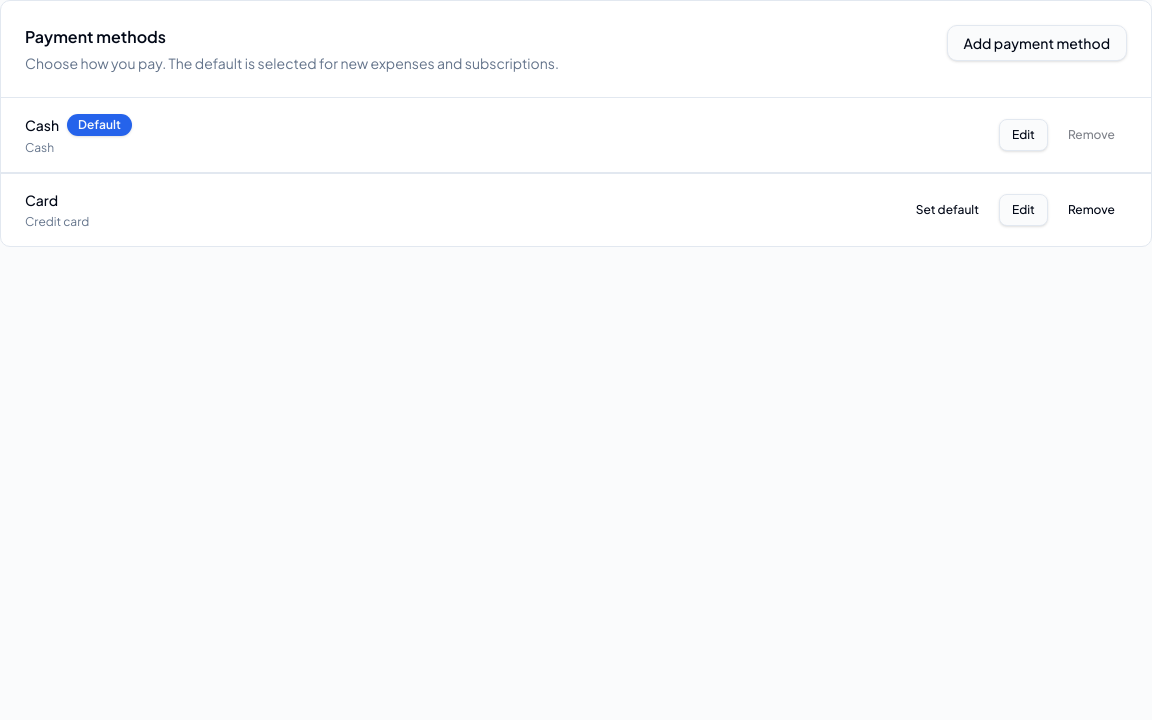
Test: payment method settings › validates names and keeps the form open on server errors
Expected: the button with aria-label "Edit Card" is shown, [999,194,1048,226]
Step 1. Click the button "Add payment method" → (1037,43), box [946,25,1127,61]
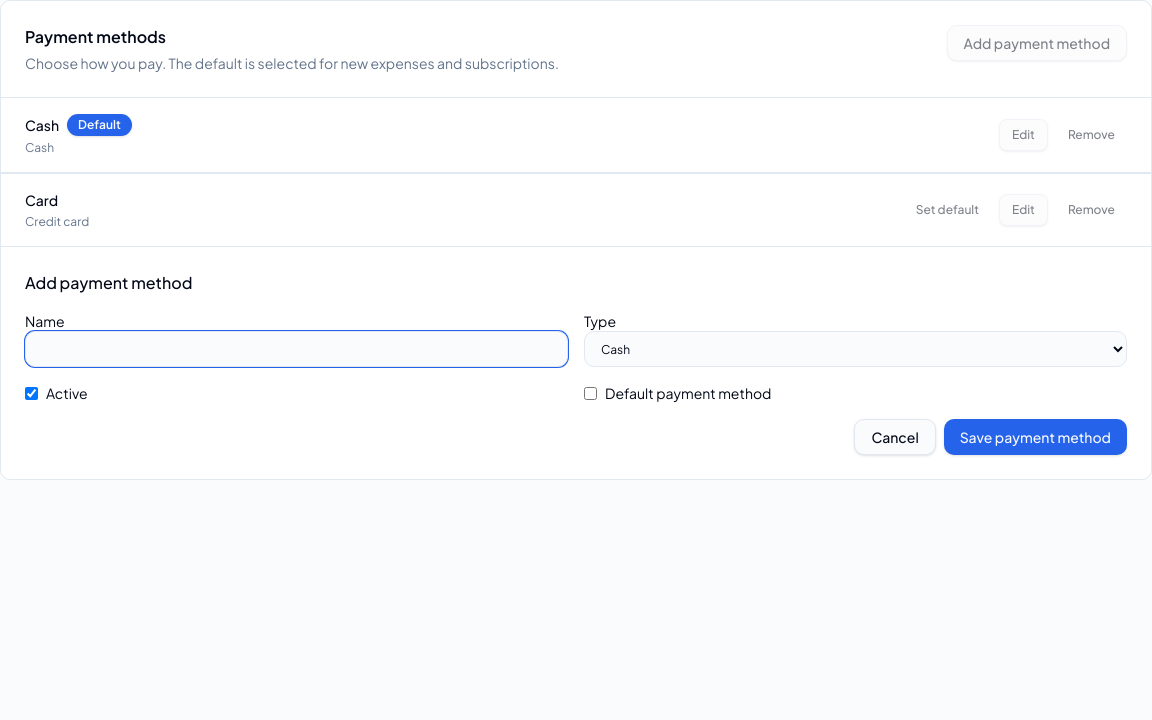
Step 2. Click the button "Save payment method" → (1035,437), box [944,419,1127,455]
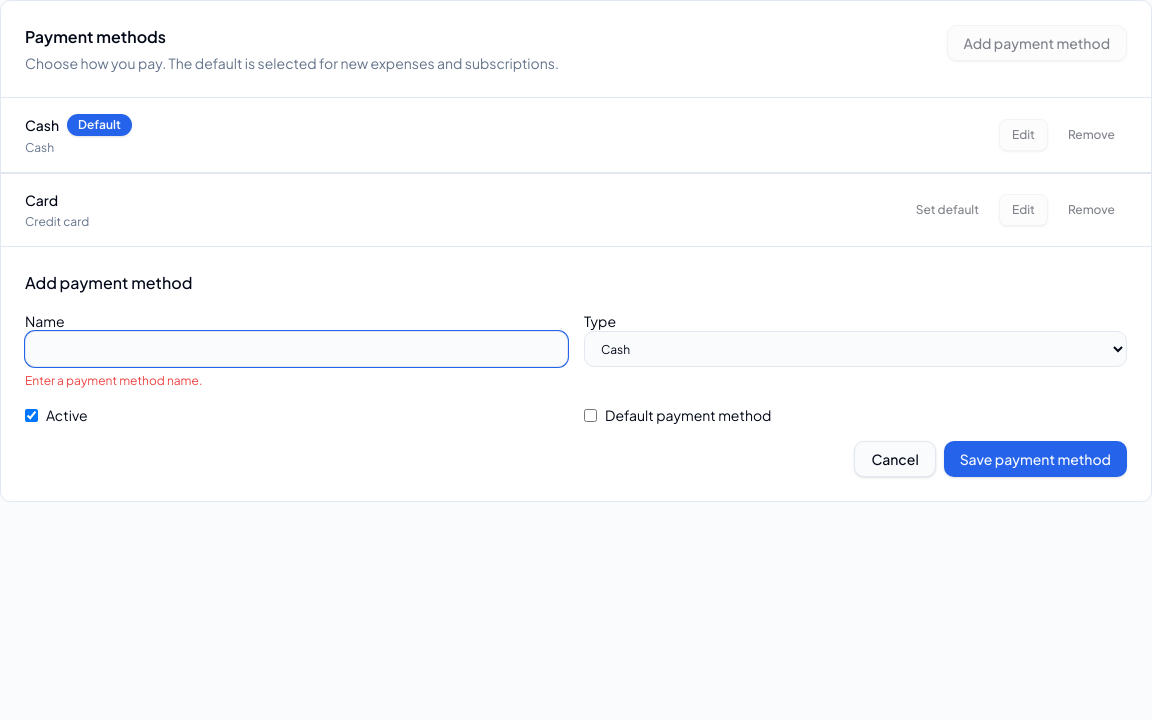
Expected: the message reads "Enter a payment method name.", [25,373,202,388]
Step 3. Type "Cash" into the field labelled "Name" → (296,349), box [25,331,568,367]
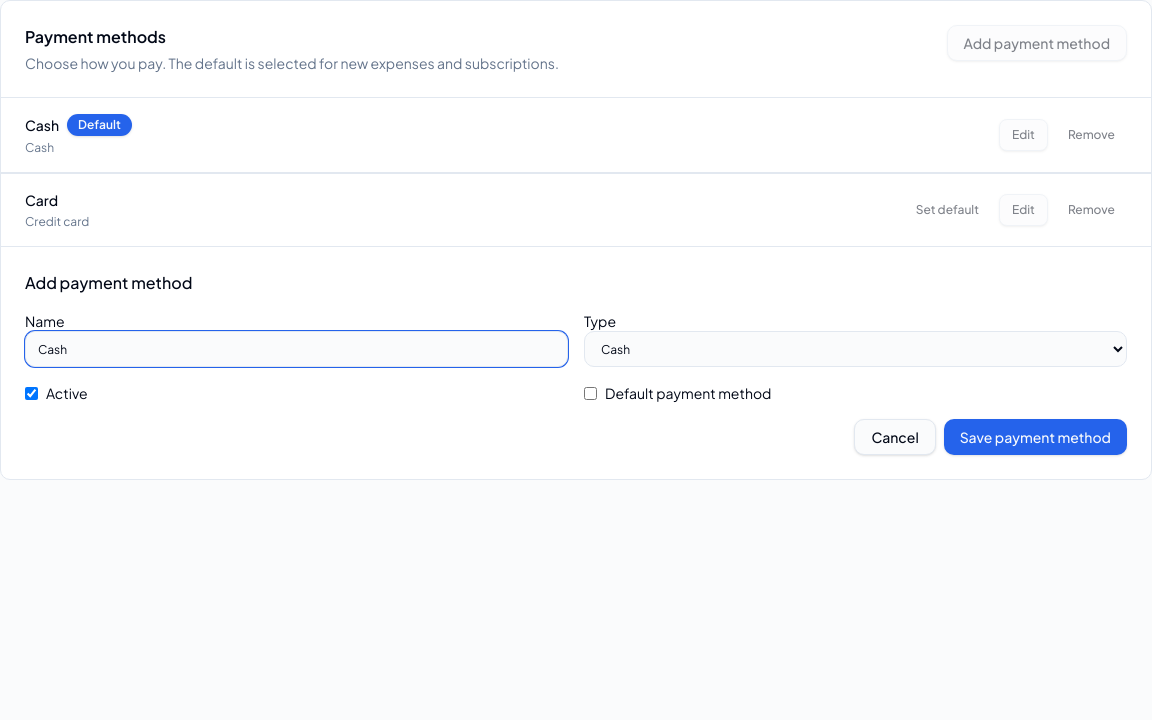
Step 4. Click the button "Save payment method" → (1035,437), box [944,419,1127,455]
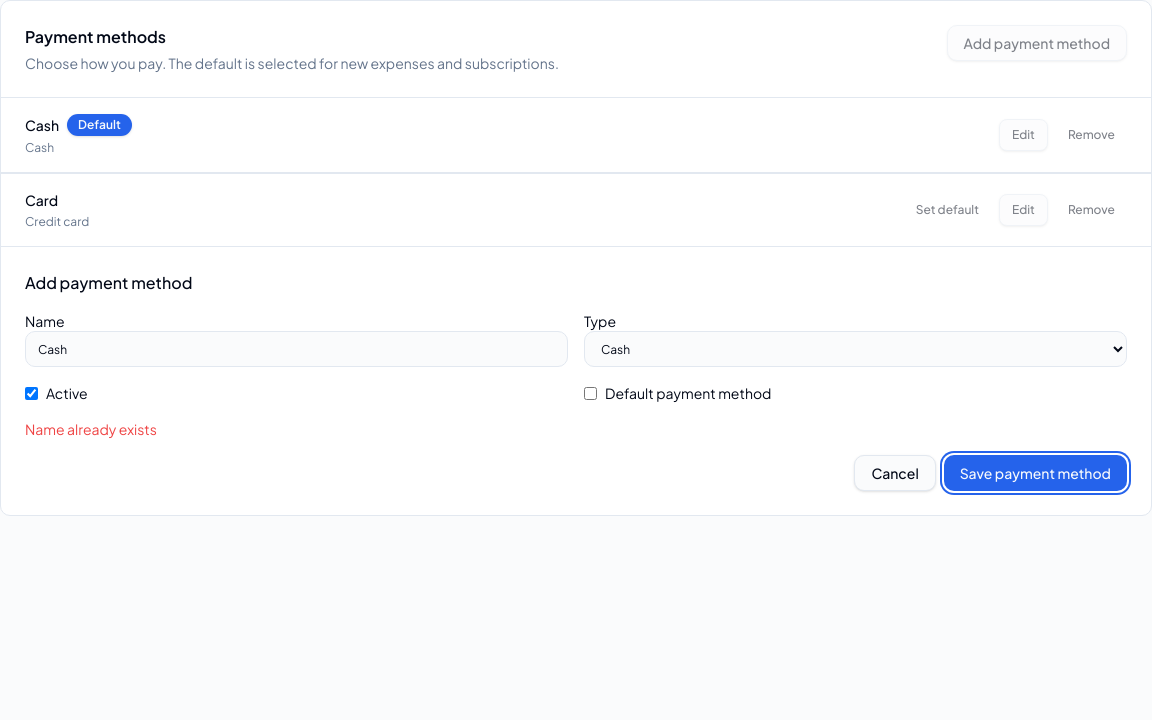
Expected: the message reads "Name already exists", [25,420,157,438]
